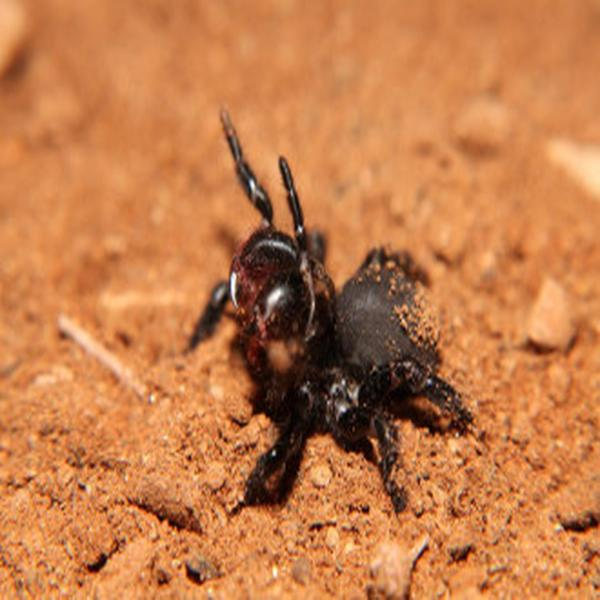Red Headed Mouse Spider: (203, 114, 470, 480)
